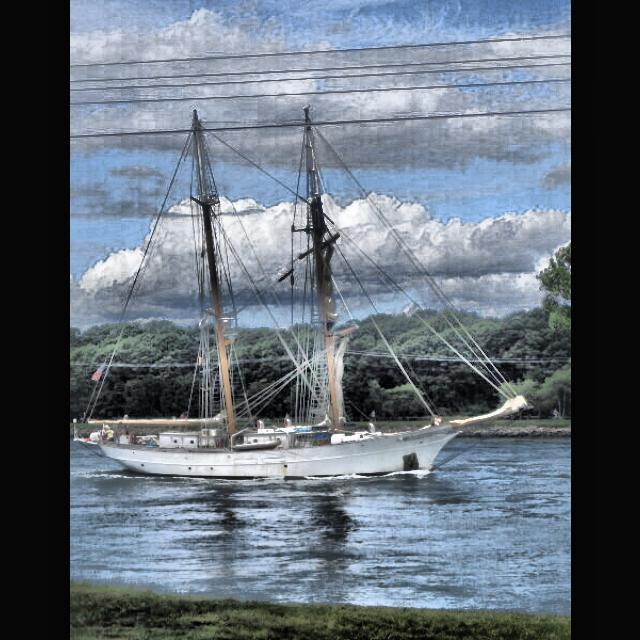sailing_vessel: (73, 106, 533, 480)
